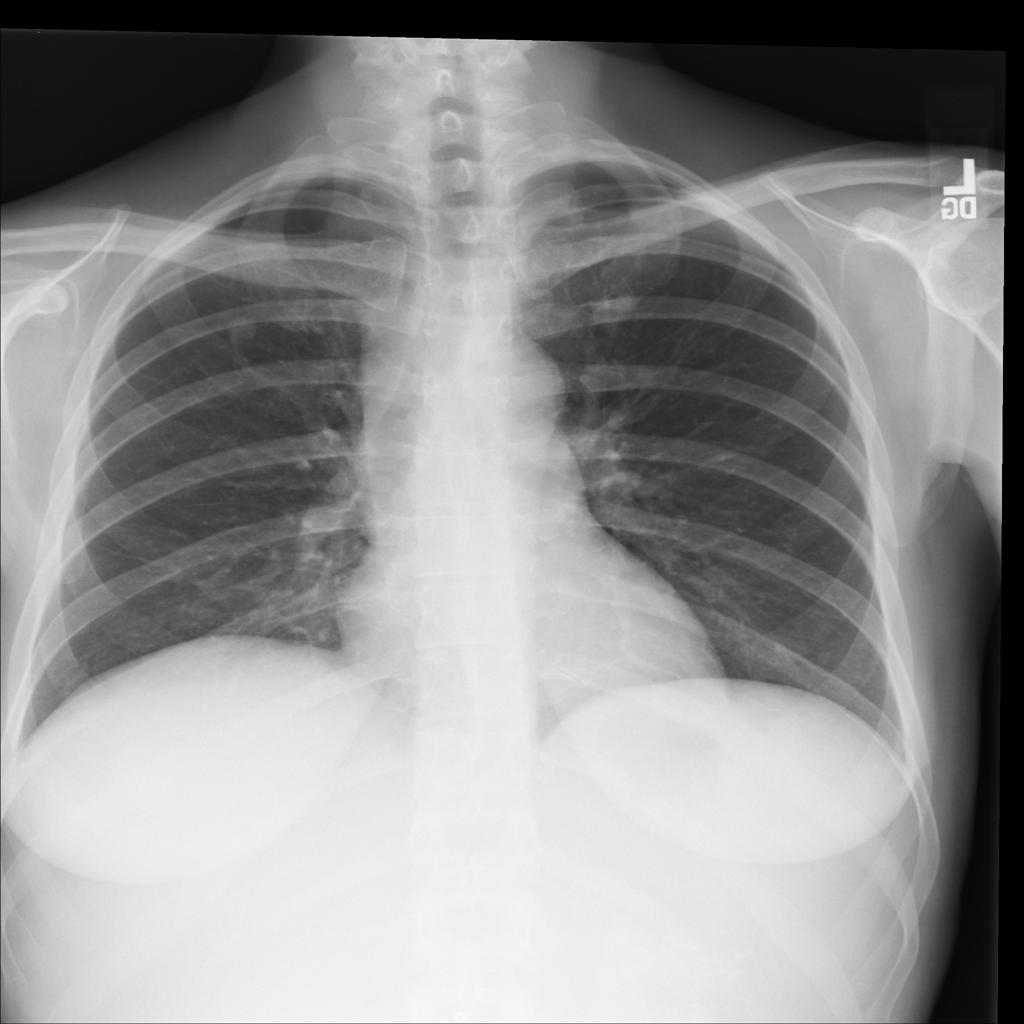nodule: (214, 307, 271, 353)
